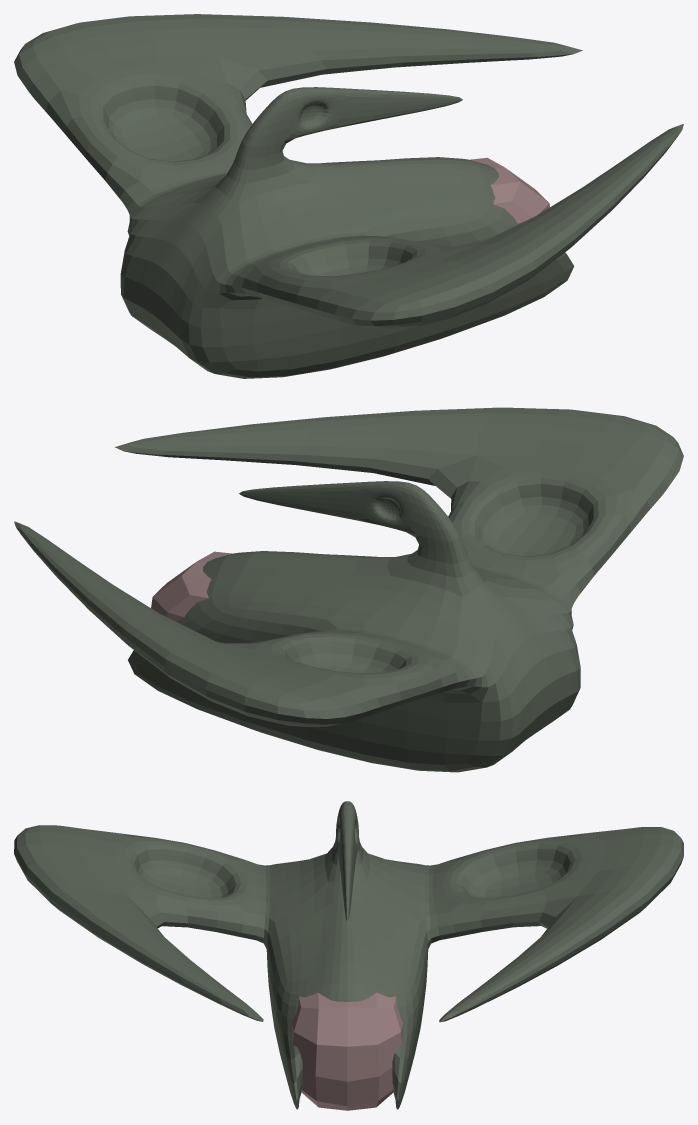
File: nave inimiga.fbx
The picture shows the model from 3 angles, top to bottom: view 1: azimuth 30°, elevation 25°; view 2: azimuth 150°, elevation 25°; view 3: azimuth 270°, elevation 25°; orthographic projection. The views are drawn at different scales.
Visible parts, largest first — view 1: Cube, Cube.001; view 2: Cube, Cube.001; view 3: Cube, Cube.001.
Boxes of the visible parts, left/top/right/bottom form: Cube: left=14, top=14, right=683, bottom=378; Cube.001: left=470, top=157, right=549, bottom=223; Cube: left=14, top=407, right=683, bottom=772; Cube.001: left=151, top=551, right=231, bottom=621; Cube: left=14, top=801, right=683, bottom=1109; Cube.001: left=291, top=992, right=403, bottom=1110.
Size of the model in its own units: 600 by 306 by 824.
